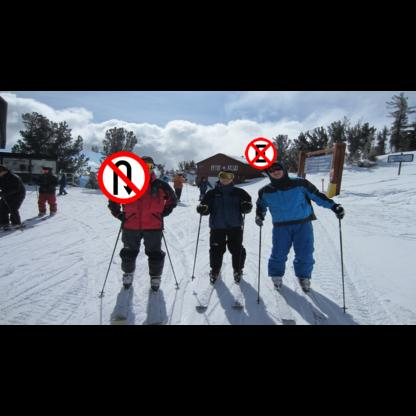R-6c: (245, 138, 277, 170)
